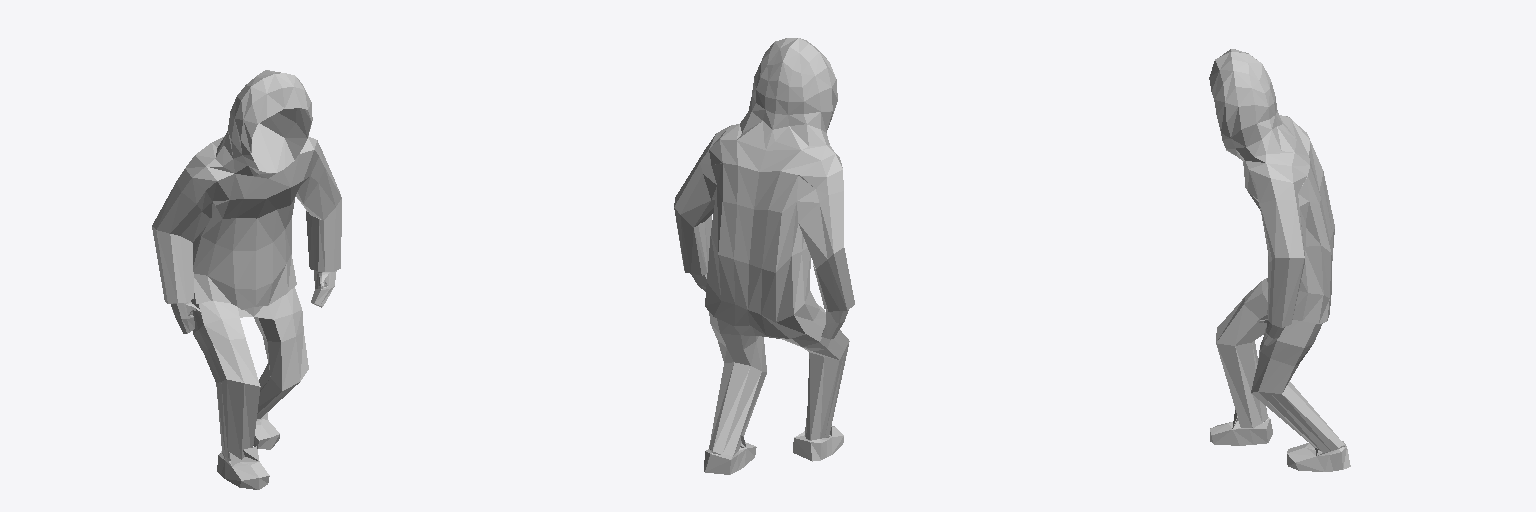
The model's file is Shadowmanv_000051.obj.
3 renders of one model, left to right at view 1: azimuth 30°, elevation 25°; view 2: azimuth 150°, elevation 25°; view 3: azimuth 270°, elevation 25°, orthographic.
Parts seen in each view (by area): view 1: Cube.000; view 2: Cube.000; view 3: Cube.000.
Boxes of the visible parts, box(x1,y1,x2,y2) form: Cube.000: box(152, 70, 341, 489); Cube.000: box(674, 38, 854, 474); Cube.000: box(1209, 49, 1350, 471).
Bounding box in the file's own units: 4.96 × 10.85 × 3.46.